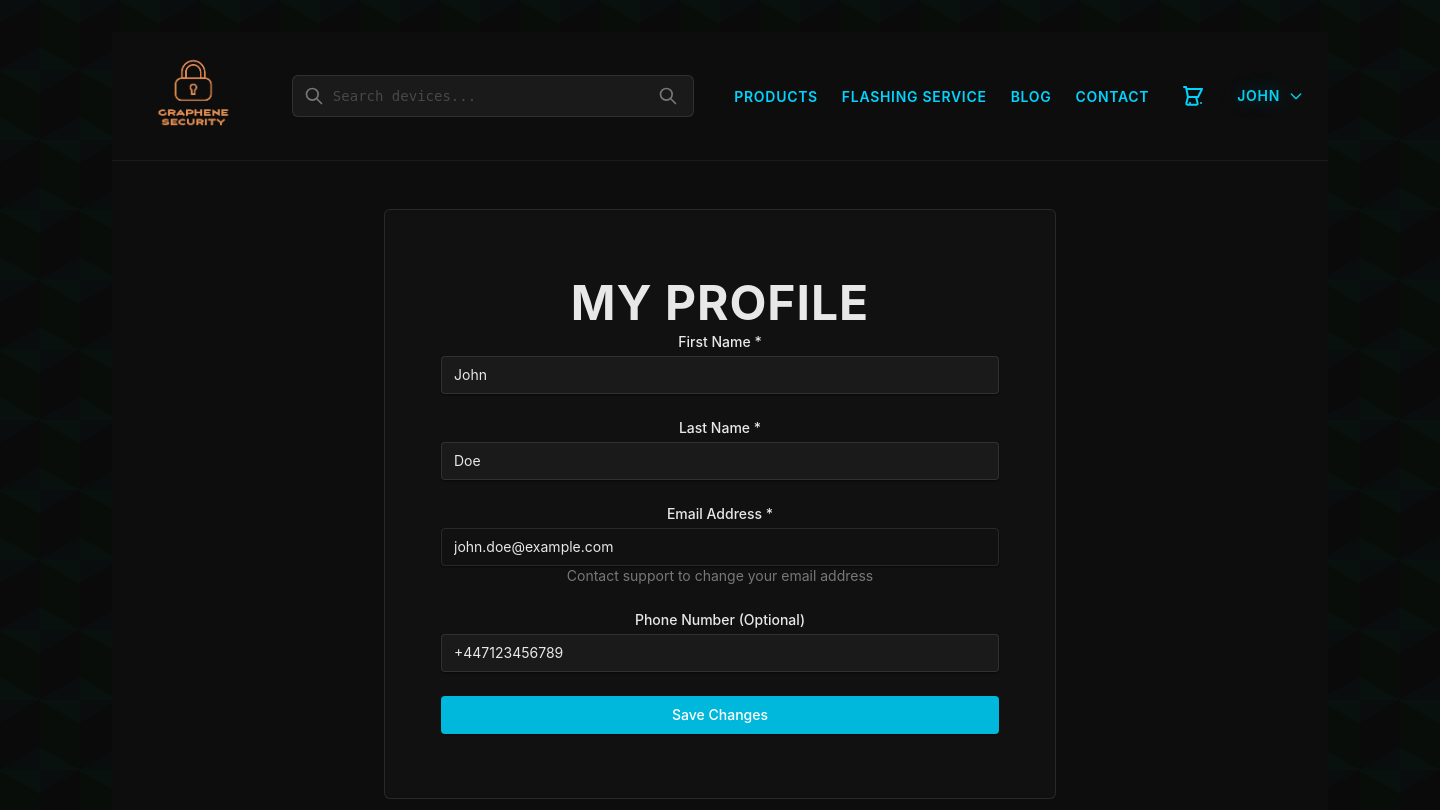
it: Profile Flow Integration Tests › should validate phone number format
The width and height of the screenshot is (1440, 810).
Expected: the heading "My Profile" is shown, [571, 273, 869, 332]
Enter invalid phone number
Replace the text in the field labelled "Phone Number (Optional)" with "invalid-phone" at (720,653), box [441, 634, 999, 672]
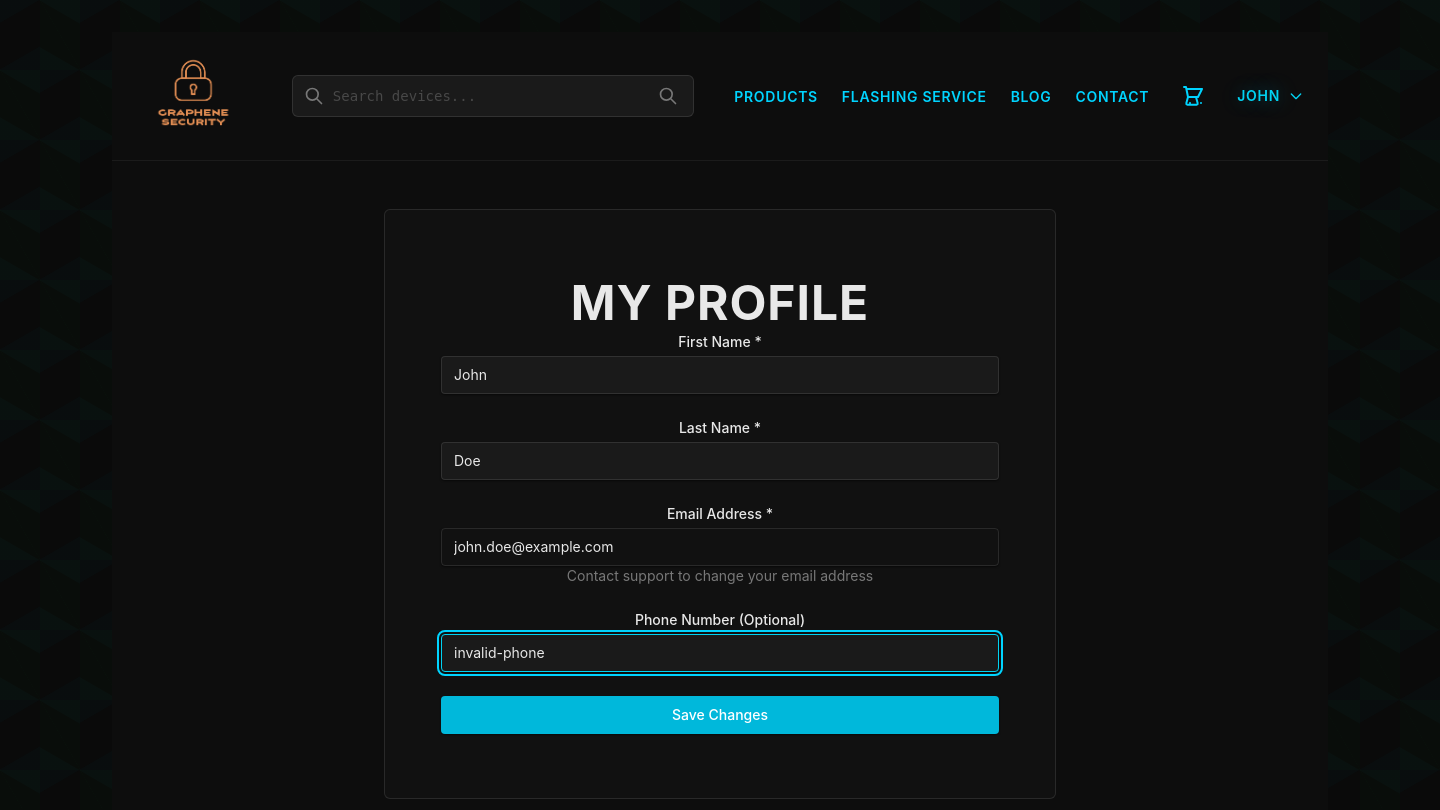
Press Tab
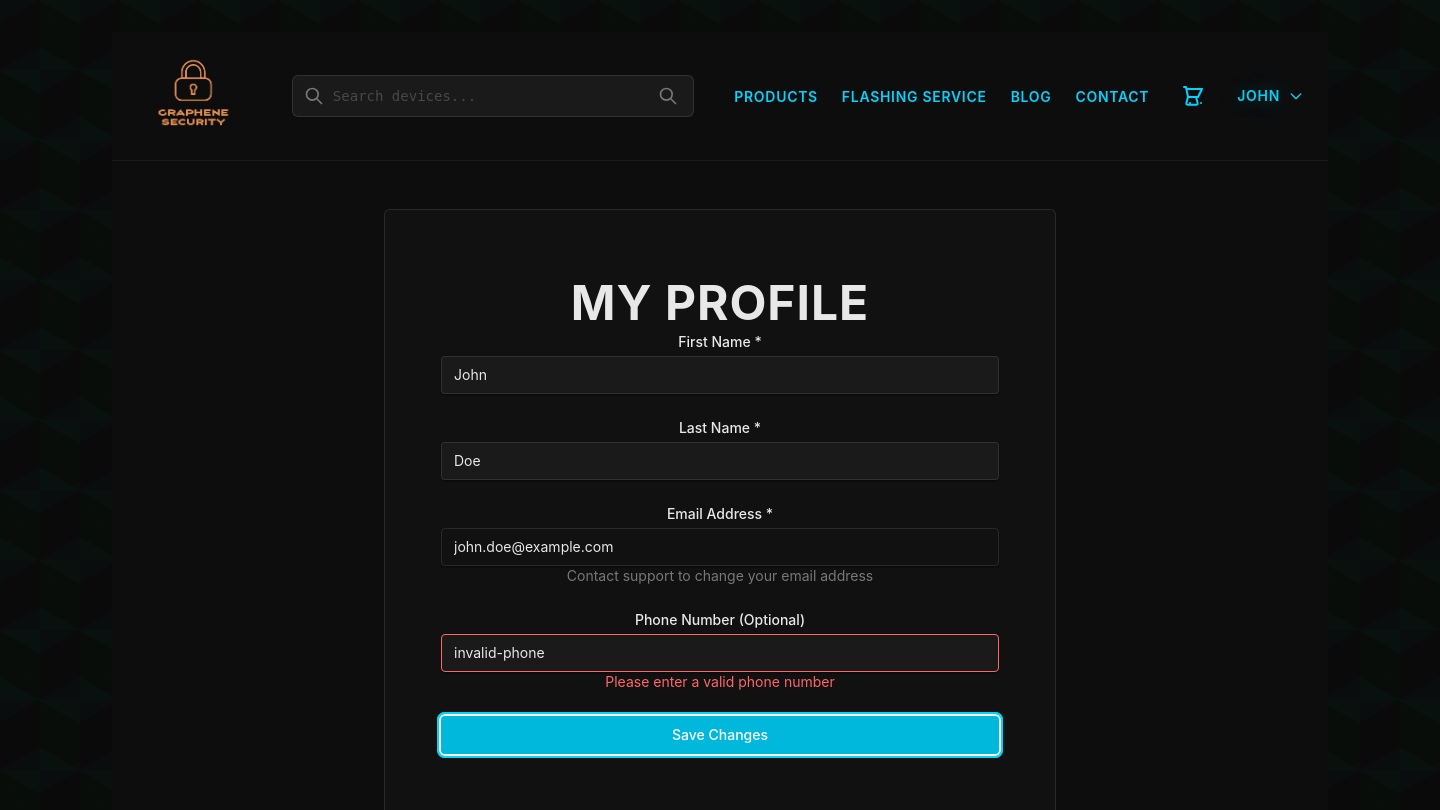
Result: the text "Please enter a valid phone number" is shown at [605, 673, 835, 690]
